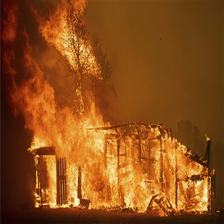fire: (16, 122, 212, 212), (7, 12, 107, 119)
